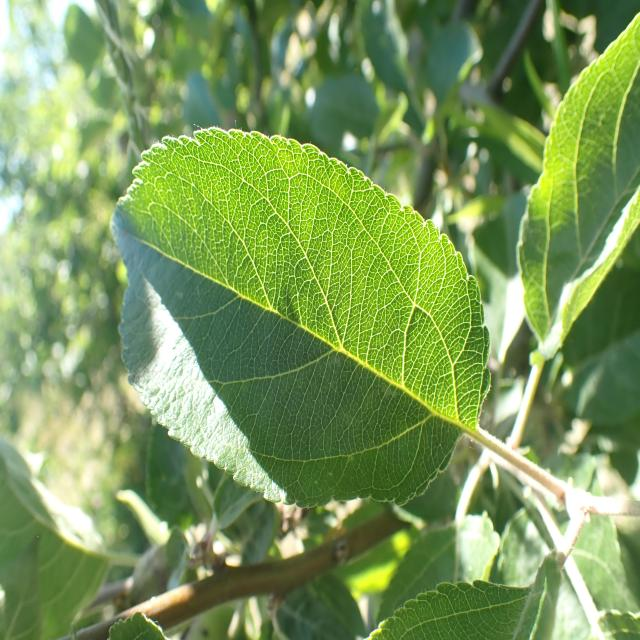healthy: (110, 123, 493, 510), (516, 13, 640, 365), (363, 579, 534, 640)
